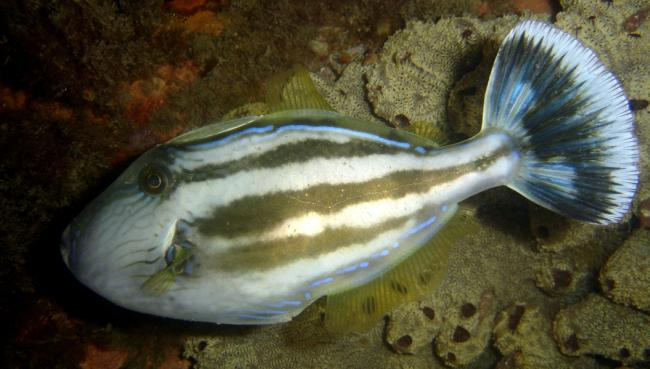fish: (60, 21, 639, 329)
